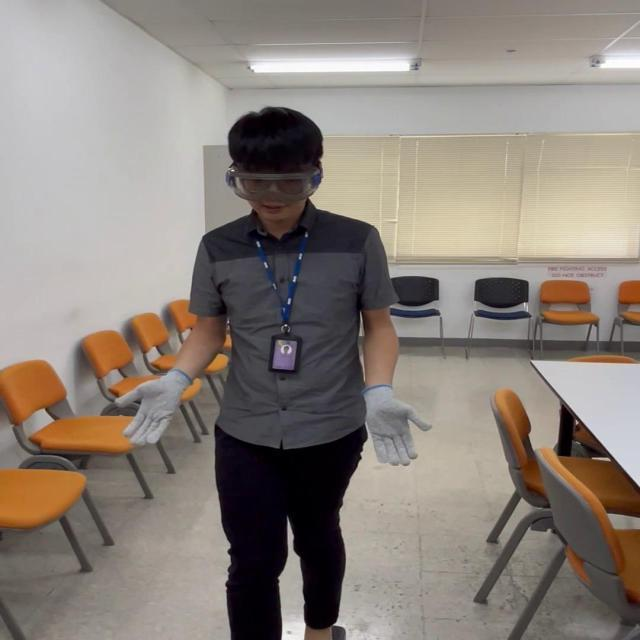gloved_hand: (117, 368, 191, 445), (364, 382, 431, 462)
